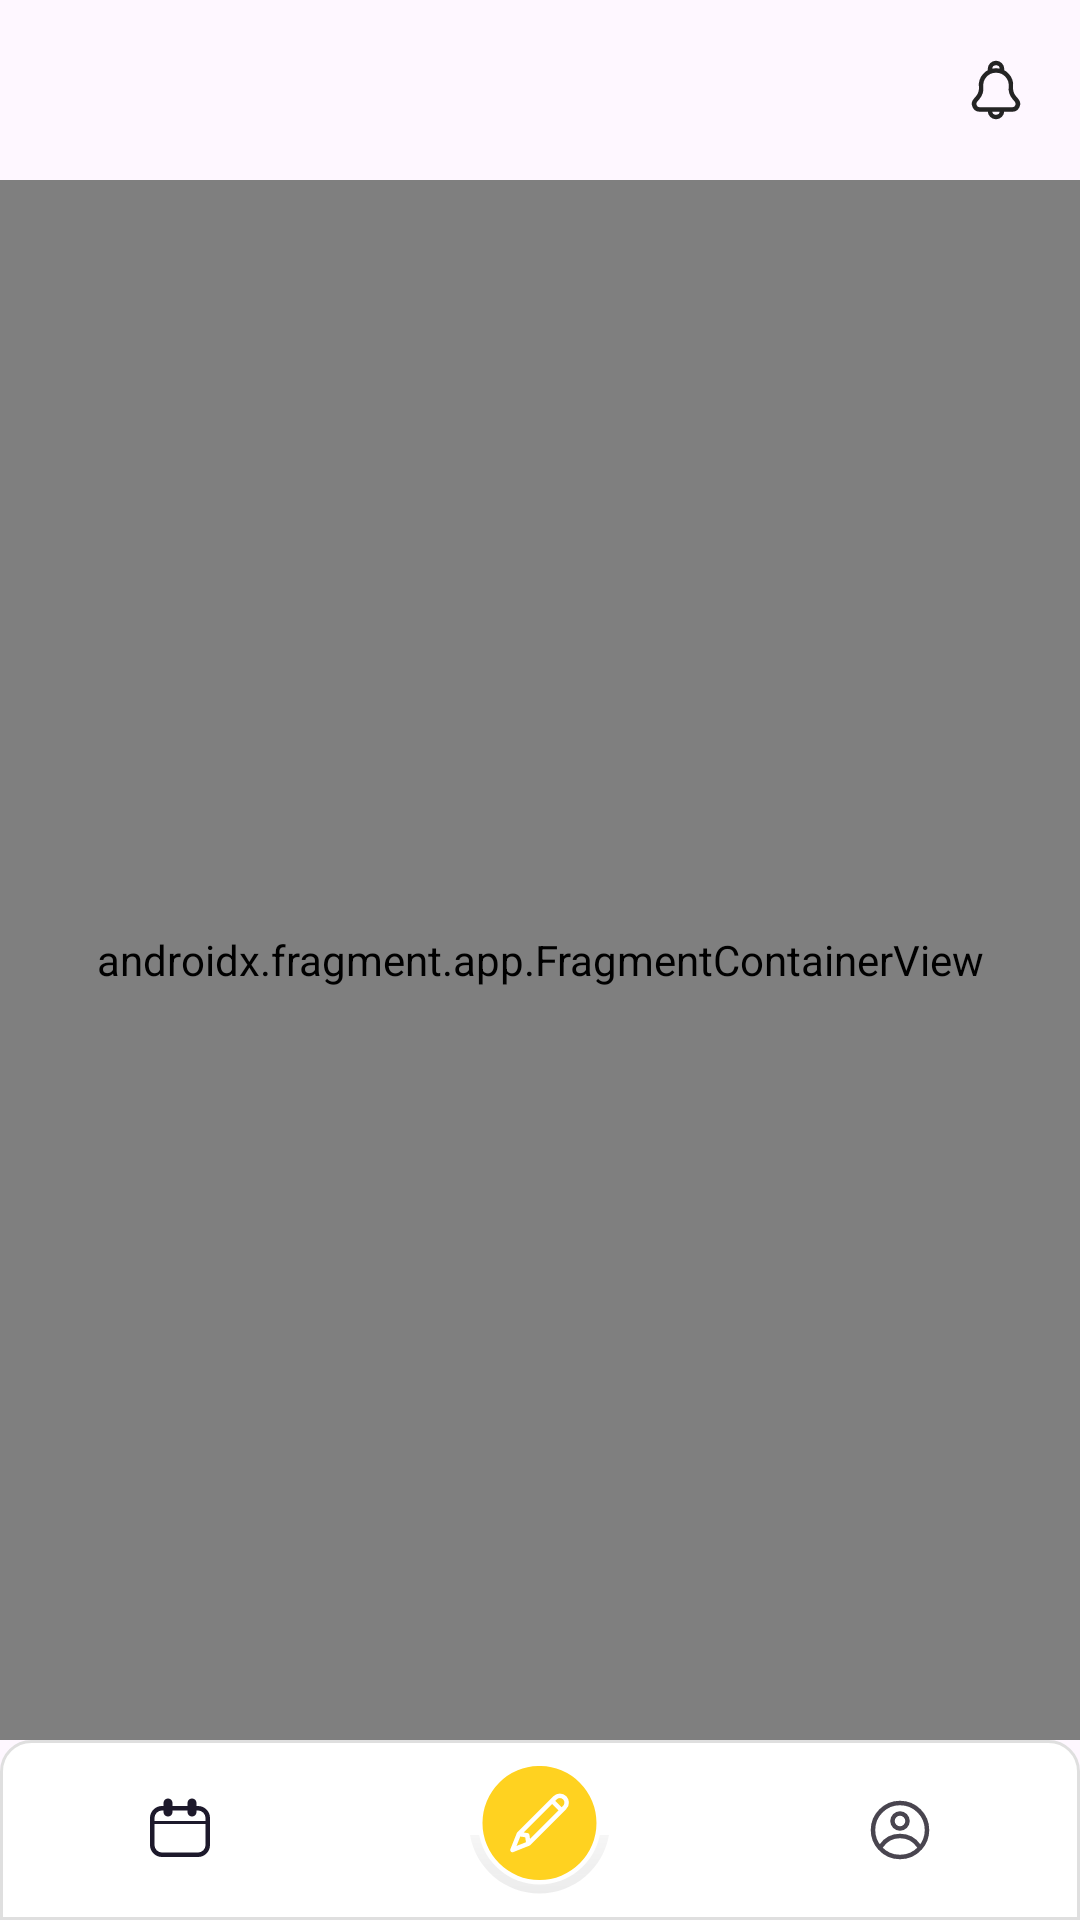

Named icons in this screenshot (1080*1920) and their centers, (x=x, y=y):
bell: (x=996, y=90)
diary plus: (x=539, y=1823)
